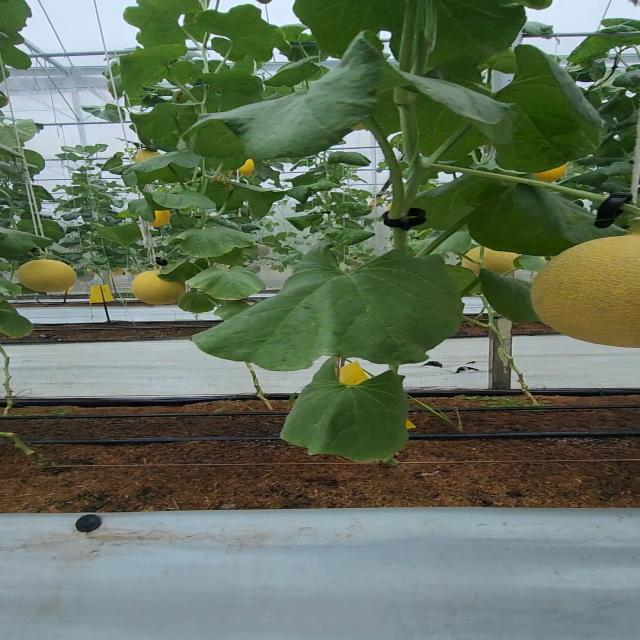Front-melon: (533, 234, 640, 348)
Rear-melon: (20, 258, 79, 294), (135, 272, 186, 306)
